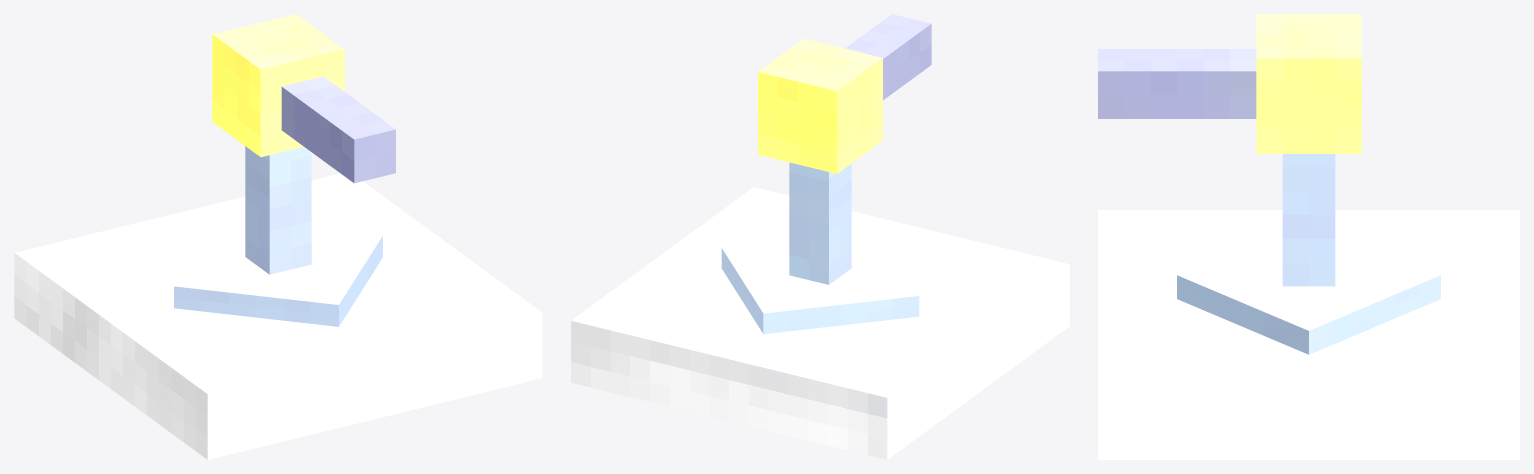
File: DevTower.gltf
The picture shows the model from 3 angles, left to right: view 1: azimuth 30°, elevation 25°; view 2: azimuth 150°, elevation 25°; view 3: azimuth 270°, elevation 25°; orthographic projection. The views are drawn at different scales.
Parts seen in each view (by area): view 1: Turret, Rotation; view 2: Turret, Rotation; view 3: Turret, Rotation.
Boxes of the visible parts, x1,y1,x2,y2 form: Turret: [14, 146, 542, 459]; Rotation: [212, 14, 395, 183]; Turret: [571, 162, 1069, 459]; Rotation: [758, 14, 931, 173]; Turret: [1098, 154, 1519, 459]; Rotation: [1098, 14, 1361, 153].
Size of the model in its own units: 1 by 0.875 by 1.
